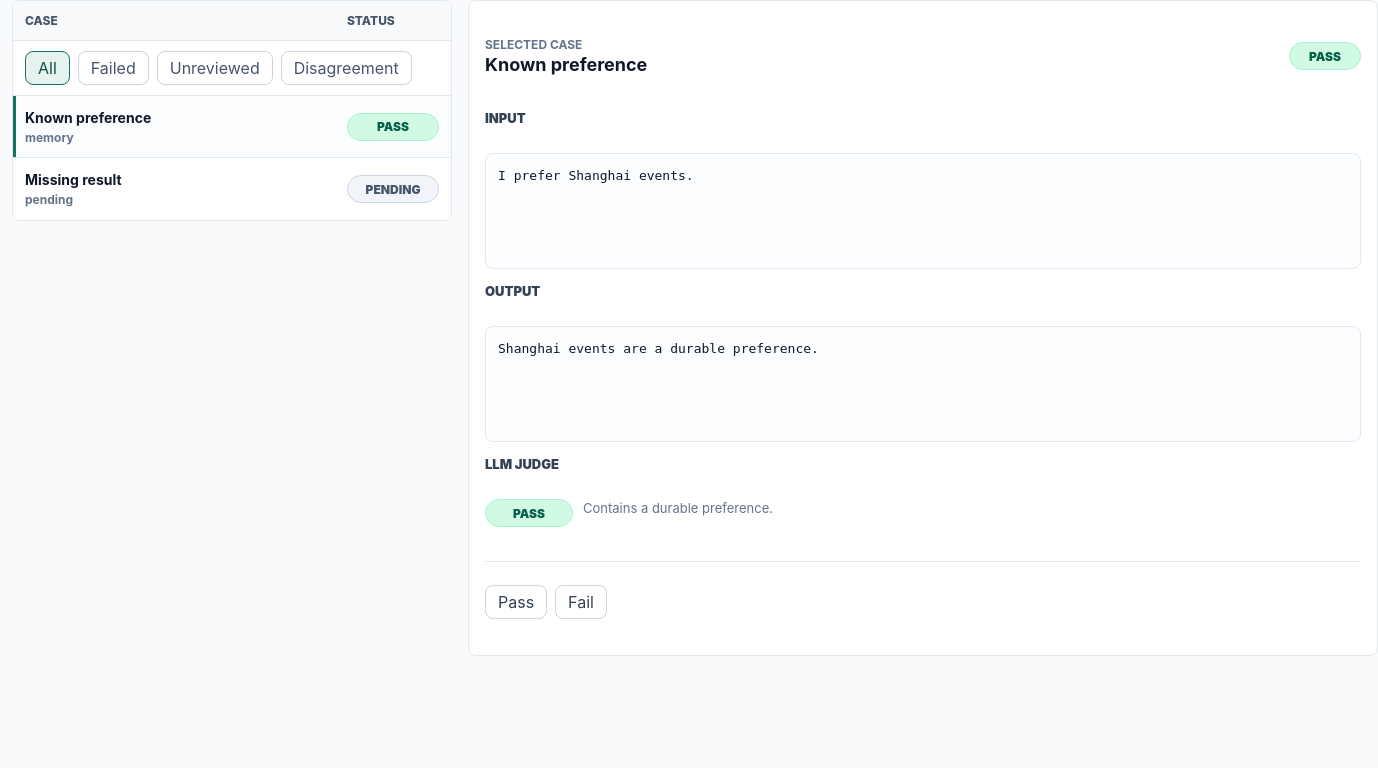
VersionCaseResults › disables manual label buttons when the selected case has no result
Click the button "Missing result pending pending".
click(73, 180)  # box [13,158,451,220]
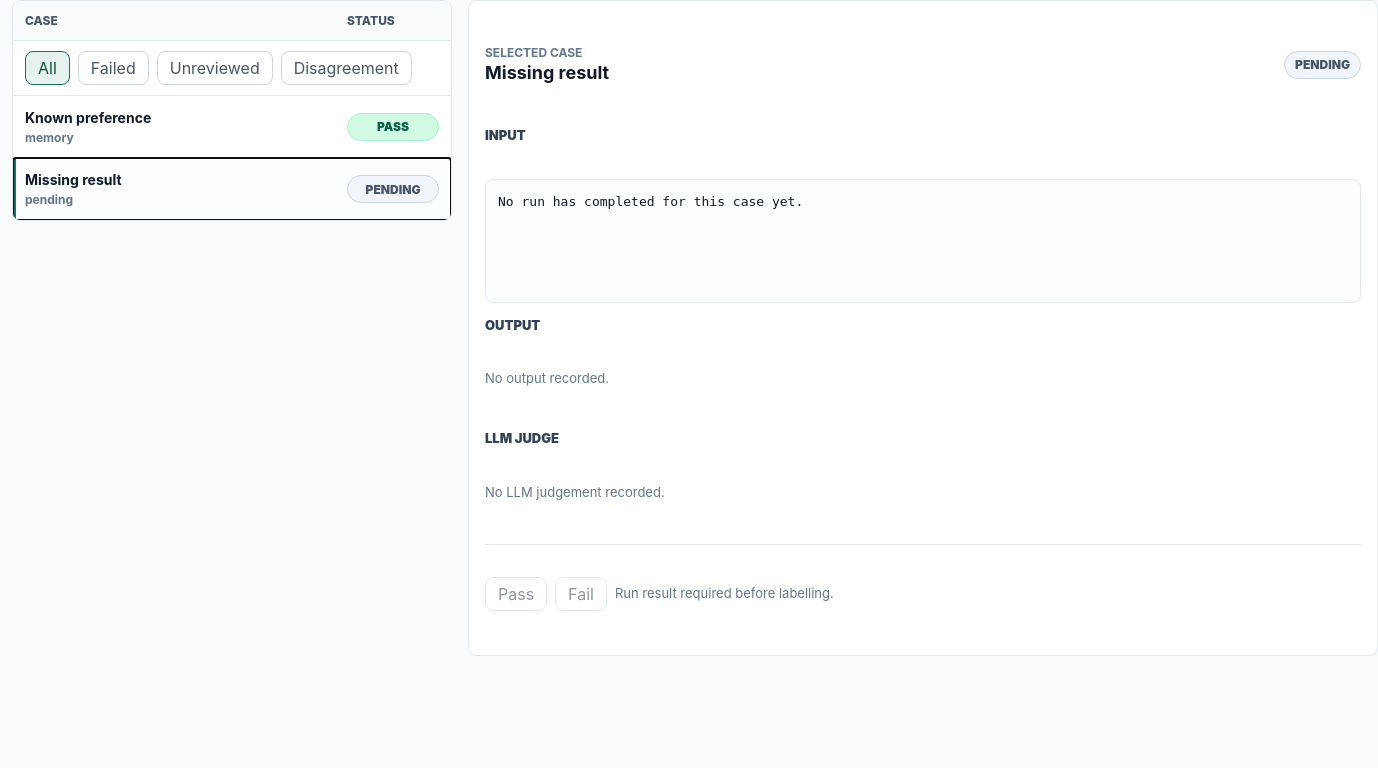
Check: the button "Pass" is disabled, box [485,577,547,611]
Check: the button "Fail" is disabled, box [555,577,607,611]
